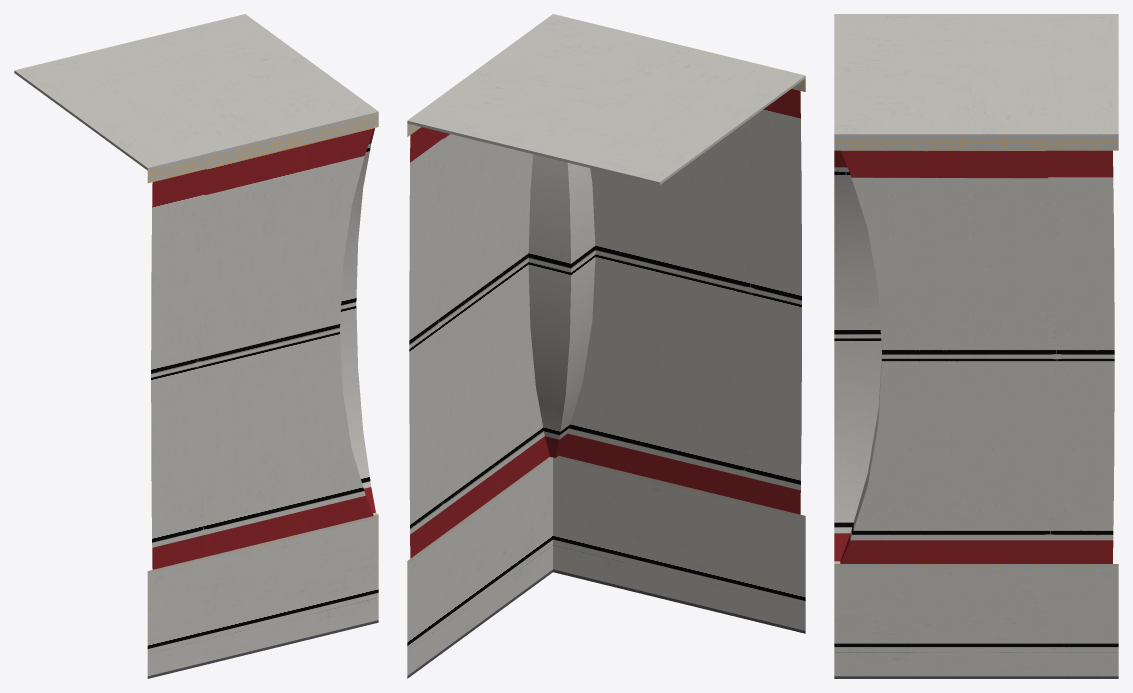
Rendered from G_Env_Arch_Wall_06_CornerReversed.fbx.
3 renders of one model, left to right at view 1: azimuth 30°, elevation 25°; view 2: azimuth 150°, elevation 25°; view 3: azimuth 270°, elevation 25°, orthographic. The views are drawn at different scales.
Visible parts, largest first — view 1: G_Env_Arch_Wall_06_CornerReversed; view 2: G_Env_Arch_Wall_06_CornerReversed; view 3: G_Env_Arch_Wall_06_CornerReversed.
Boxes of the visible parts, left/top/right/bottom form: G_Env_Arch_Wall_06_CornerReversed: left=14, top=14, right=378, bottom=678; G_Env_Arch_Wall_06_CornerReversed: left=407, top=14, right=805, bottom=678; G_Env_Arch_Wall_06_CornerReversed: left=834, top=14, right=1118, bottom=678.
Size of the model in its own units: 426 by 900 by 426.
